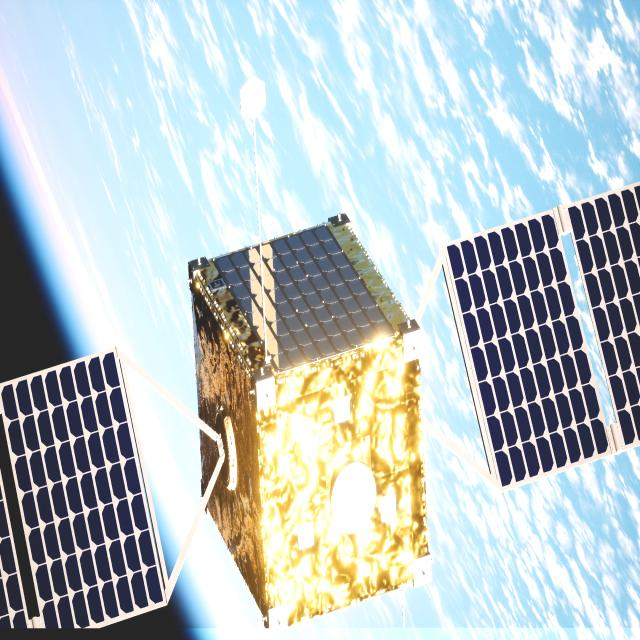medium_debris: (0, 183, 640, 634)
